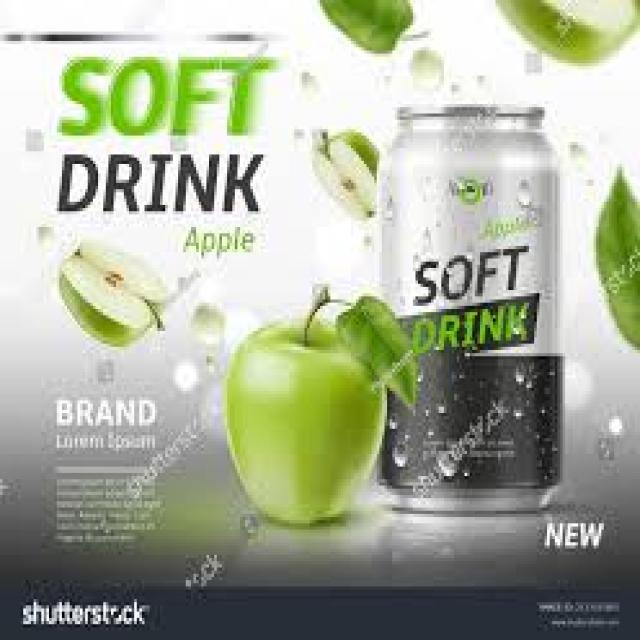Cans: (372, 95, 573, 520)
